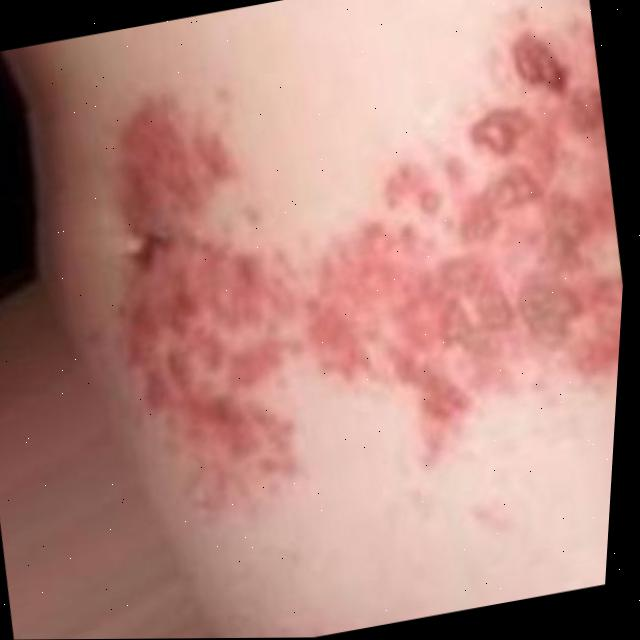Shingles: (80, 34, 638, 502)
